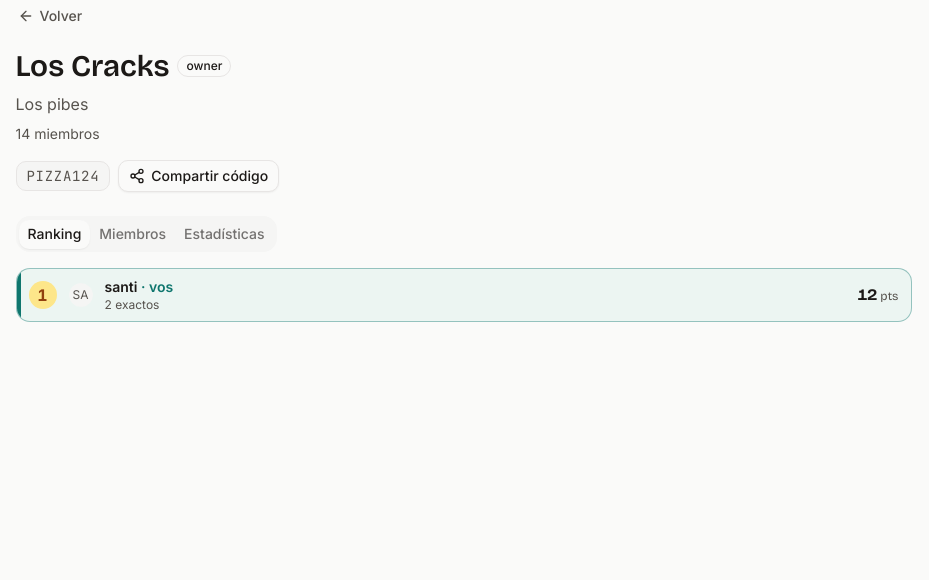
Test: GroupDetailPage › shows the penca stats on the Estadísticas tab
Step 1. Click the tab "Estadísticas" → (224, 234), box [175,220,274,248]
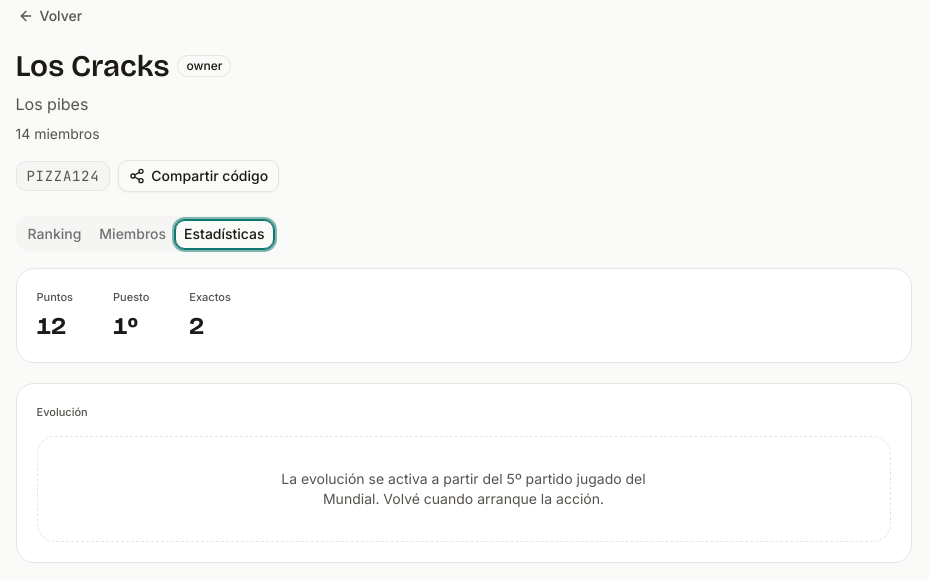
Expected: the text "Puntos" is shown, [36,289,73,306]
Expected: the heading "Evolución" is shown, [36,404,88,420]
